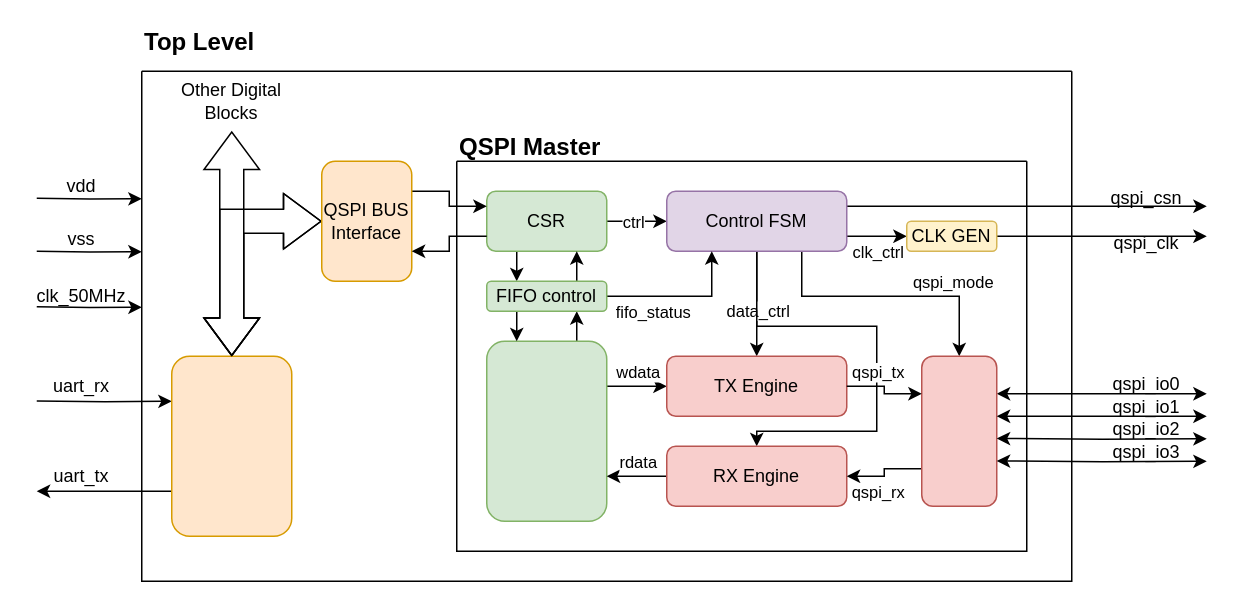
Some shapes in this 1247 by 608 pixel diagram are drawn without their labels. The box of each missing label's shape, as (x1, y1, x2, y2) in pixels:
Data FIFO: (485, 340, 607, 521)
IO MUX: (920, 355, 997, 506)
UART to BUS (APB): (170, 355, 292, 536)
